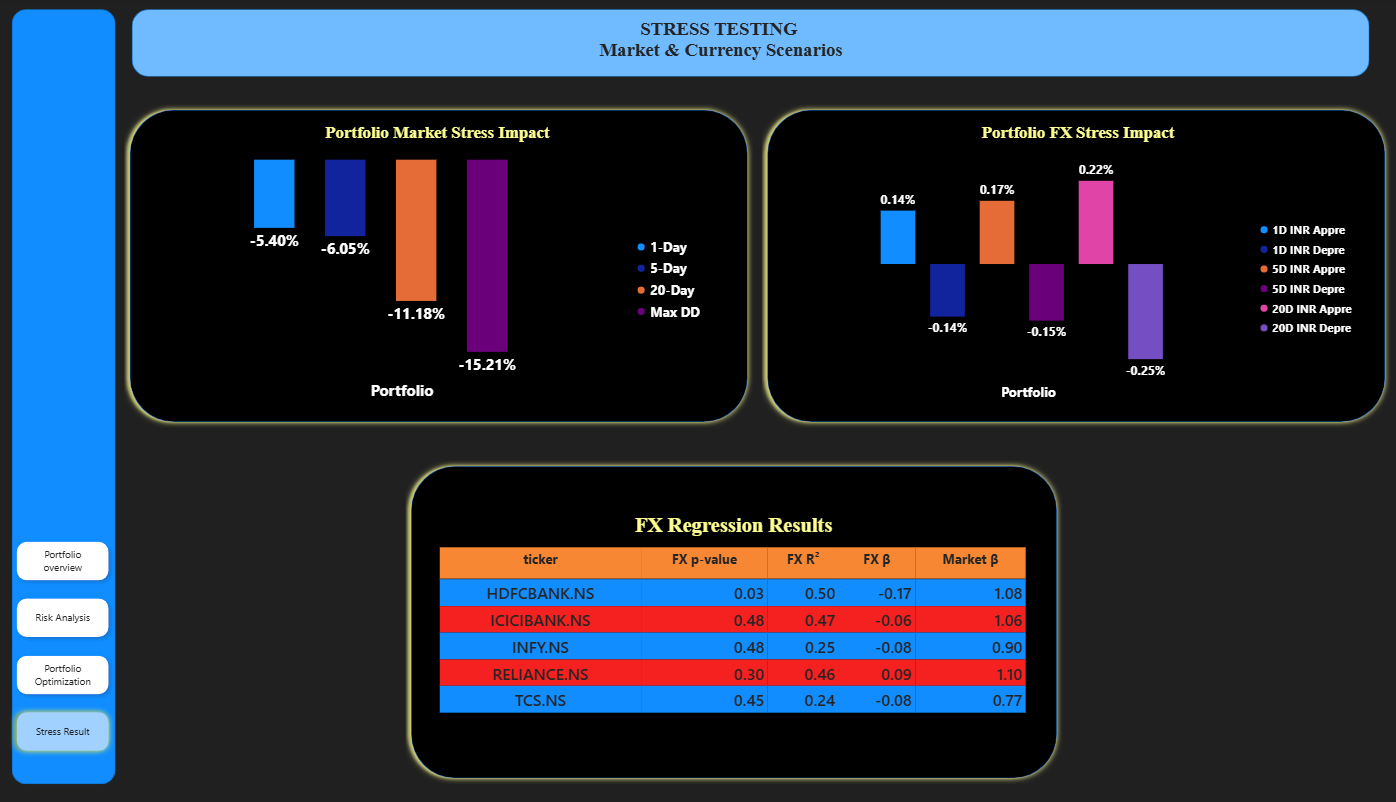

What the dashboard file says about the page in this screenshot:
{"tool":"powerbi","page":{"name":"Stress Result","canvas":[2000,1150],"ordinal":3},"visuals":[{"type":"shape","box":[19.6,16.1,148,1105.8],"z":0},{"type":"shape","box":[190.8,16.4,1766,96.3],"z":1000},{"type":"textbox","box":[763.1,29.1,529.8,71.7],"z":2000},{"type":"shape","box":[180.1,151.6,897.5,461.5],"z":2500},{"type":"clusteredColumnChart","title":"Portfolio Market Stress Impact","fields":{"Category":["public market_stress.ticker"],"Y":["Sum(public market_stress.1-Day)","Sum(public market_stress.5-Day)","Sum(public market_stress.20-Day)","Sum(public market_stress.Max DD)"]},"box":[226.5,164.1,800.8,431.6],"z":3000},{"type":"shape","box":[1090.1,150.8,897.5,461.5],"z":3500},{"type":"shape","box":[581.4,659.5,937.5,461.5],"z":3750},{"type":"clusteredColumnChart","title":"Portfolio FX Stress Impact","fields":{"Category":["public fx_stress.ticker"],"Y":["Sum(public fx_stress.1D INR Appre)","Sum(public fx_stress.1D INR Depre)","Sum(public fx_stress.5D INR Appre)","Sum(public fx_stress.5D INR Depre)","Sum(public fx_stress.20D INR Appre)","Sum(public fx_stress.20D INR Depre)"]},"box":[1125.4,164.1,831.1,431.6],"z":4000},{"type":"tableEx","title":"FX Regression Results","fields":{"Values":["public fx_regression_results.ticker","public fx_regression_results.FX p-value","public fx_regression_results.FX R²","public fx_regression_results.FX β","public fx_regression_results.Market β"]},"box":[614.1,721.3,872.1,365.2],"z":6000},{"type":"pageNavigator","box":[17.8,766.9,149.2,318.5],"z":6001}]}

Visuals, with their boxes in screenshot pixels (x1, y1, x2, y2), scaled from the page's 2000x1150 canvas onto the 1396x802 screenshot:
shape: l=14, t=11, r=117, b=782
shape: l=133, t=11, r=1366, b=79
textbox: l=533, t=20, r=902, b=70
shape: l=126, t=106, r=752, b=428
"Portfolio Market Stress Impact" clusteredColumnChart: l=158, t=114, r=717, b=415
shape: l=761, t=105, r=1387, b=427
shape: l=406, t=460, r=1060, b=782
"Portfolio FX Stress Impact" clusteredColumnChart: l=786, t=114, r=1366, b=415
"FX Regression Results" tableEx: l=429, t=503, r=1037, b=758
pageNavigator: l=12, t=535, r=117, b=757
